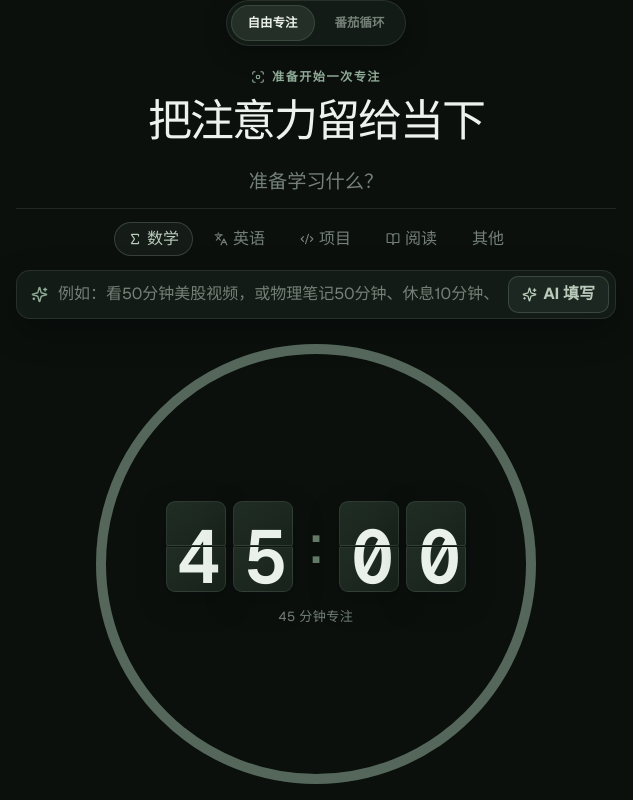
Test case: FocusTimer unified AI input › shows backend and empty-result errors without changing settings
Type "看50分钟美股视频" into the field named "用自然语言设置计时器".
click(278, 294); type("看50分钟美股视频")  # box [58,282,498,306]
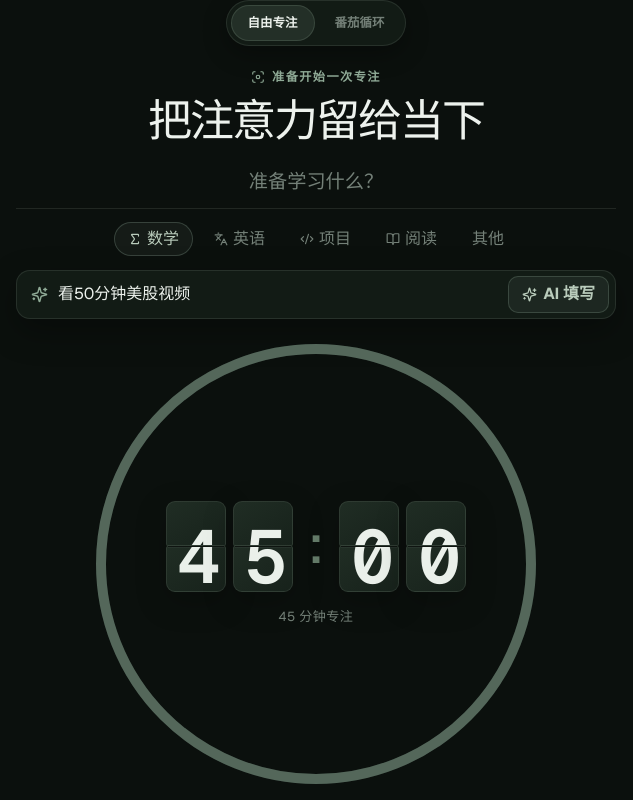
Click the button "AI 填写".
click(559, 294)  # box [508,276,609,313]
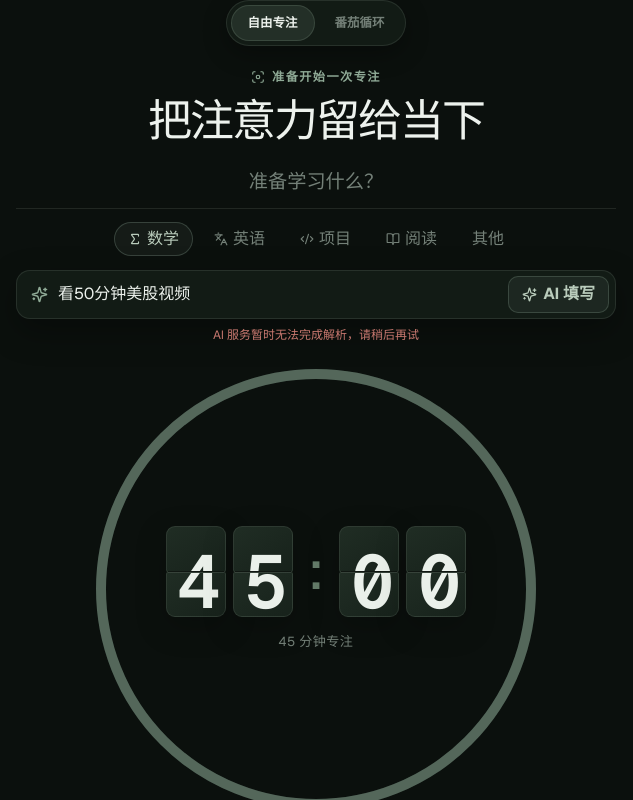
Check: the element named "剩余时间 45:00" is shown, box [166,526,466,617]
Check: the message reads "AI 服务暂时无法完成解析，请稍后再试", box [213,327,419,343]
Replace the text in the field named "用自然语言设置计时器" with "随便专注一下" at (278, 294), box [58,282,498,306]
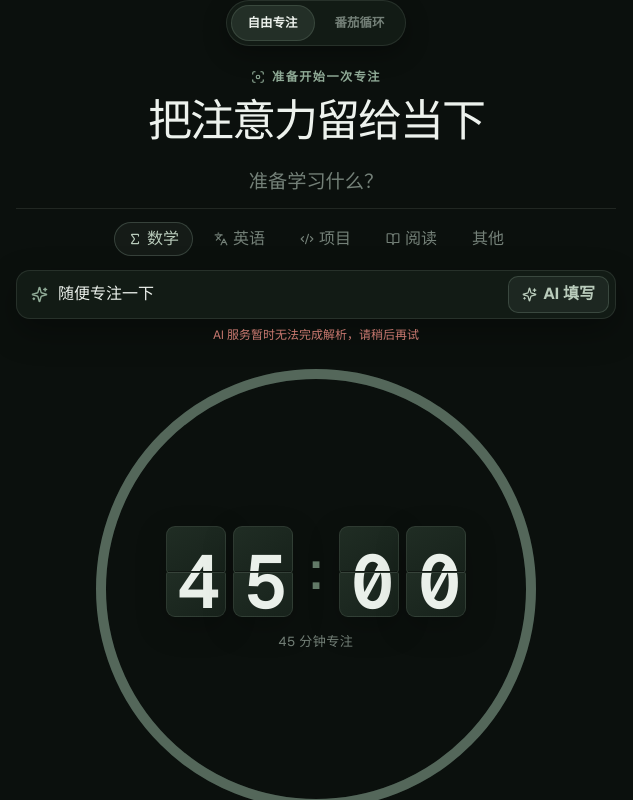
Click the button "AI 填写".
click(559, 294)  # box [508,276,609,313]
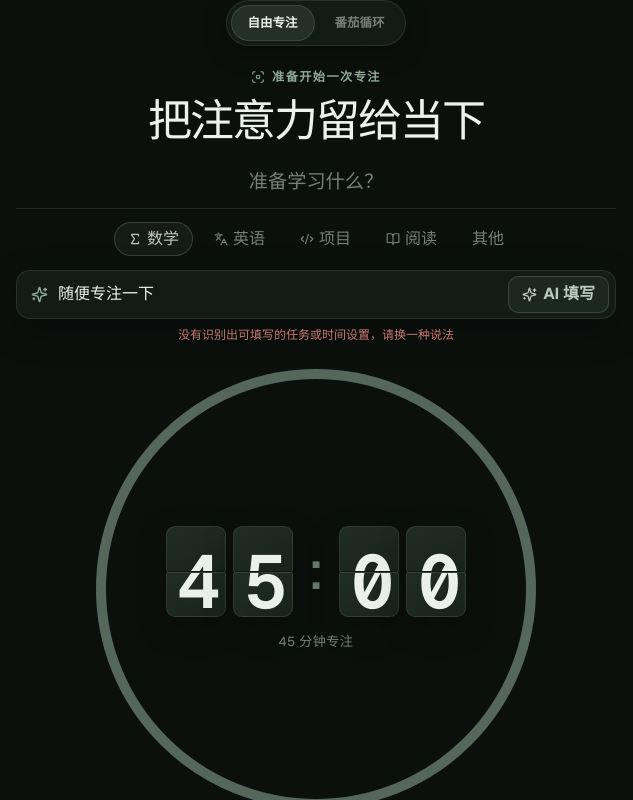
Check: the element named "剩余时间 45:00" is shown, box [166,526,466,617]
Check: the message shows "没有识别出可填写的任务或时间设置", box [178,327,454,343]
